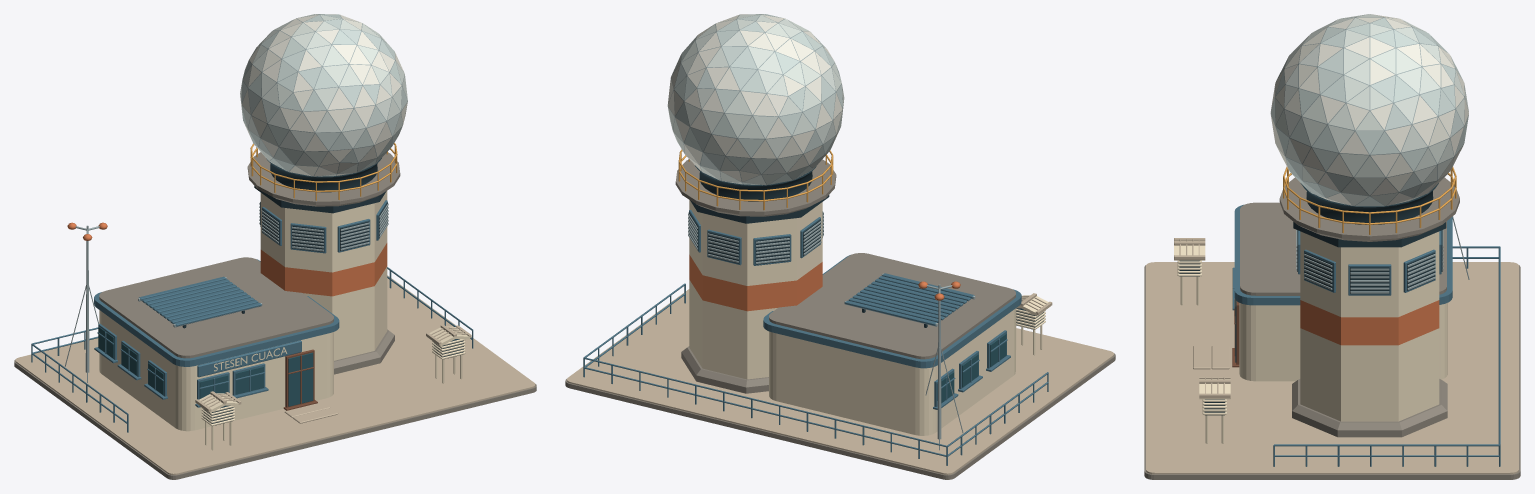
The picture shows the model from 3 angles, left to right: view 1: azimuth 30°, elevation 25°; view 2: azimuth 150°, elevation 25°; view 3: azimuth 270°, elevation 25°; orthographic projection. The views are drawn at different scales.
Parts seen in each view (by area): view 1: Forecast Office, Instrument Compound, Radome Panels, Radar Pedestal, Instrument Garden; view 2: Forecast Office, Instrument Compound, Radar Pedestal, Radome Panels, Instrument Garden; view 3: Instrument Compound, Radar Pedestal, Radome Panels, Forecast Office, Instrument Garden.
Boxes of the visible parts, x1,y1,x2,y2 form: Forecast Office: (94,257,339,431); Instrument Compound: (14,275,536,479); Radome Panels: (240,14,407,176); Radar Pedestal: (247,143,400,374); Instrument Garden: (31,222,473,450); Forecast Office: (763,253,1021,435); Instrument Compound: (565,289,1115,479); Radar Pedestal: (675,149,836,393); Radome Panels: (667,14,844,185); Instrument Garden: (583,281,1052,465); Instrument Compound: (1144,262,1520,479); Radar Pedestal: (1279,166,1459,437); Radome Panels: (1270,14,1468,206); Forecast Office: (1193,202,1452,381); Instrument Garden: (1174,216,1500,466).
Bounding box in the file's own units: 20.8 × 17.75 × 15.6.
